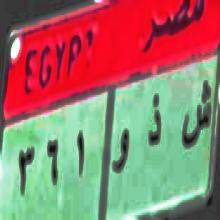1: (74, 128, 88, 189)
3: (15, 143, 36, 201)
6: (43, 138, 62, 195)
sheen: (180, 82, 212, 157)
waw: (111, 123, 132, 182)
zaal: (146, 96, 163, 158)
